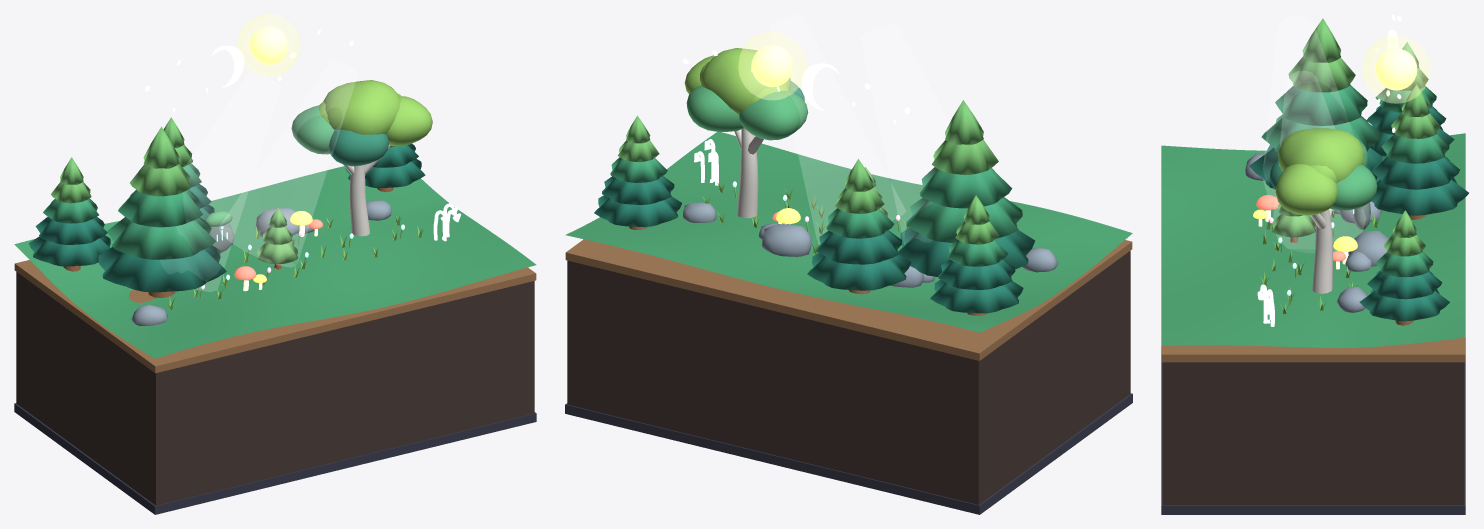
File: wood_wide_web_3d.glb
3 renders of one model, left to right at view 1: azimuth 30°, elevation 25°; view 2: azimuth 150°, elevation 25°; view 3: azimuth 270°, elevation 25°, orthographic. The views are drawn at different scales.
Parts seen in each view (by area): view 1: CutawayEarthShell, MossSurface, DaySunbeam_1, DaySunbeam_0, TopsoilRimBand, BedrockSlab, ElderFir_Tier_0, Birch_Foliage_0, ElderFir_Tier_1, CelestialSunHalo, ElderFir_Tier_2, Birch_Foliage_3 (+16 smaller); view 2: CutawayEarthShell, MossSurface, TopsoilRimBand, DaySunbeam_0, DaySunbeam_1, BedrockSlab, CelestialSunHalo, ElderFir_Tier_1, Birch_Foliage_0, ElderFir_Tier_2, BgPine_1_Tier_0, ElderFir_Tier_0 (+19 smaller); view 3: CutawayEarthShell, MossSurface, TopsoilRimBand, DaySunbeam_0, DaySunbeam_1, BedrockSlab, CelestialSunHalo, Birch_Foliage_0, ElderFir_Tier_2, Birch_Foliage_2, BgPine_1_Tier_0, BgPine_1_Tier_1 (+24 smaller).
Boxes of the visible parts, x1,y1,x2,y2 form: CutawayEarthShell: (16,272,534,505); MossSurface: (14,166,536,358); DaySunbeam_1: (219,60,357,266); DaySunbeam_0: (184,72,280,291); TopsoilRimBand: (14,260,536,373); BedrockSlab: (14,403,536,514); ElderFir_Tier_0: (98,245,226,292); Birch_Foliage_0: (323,80,400,134); ElderFir_Tier_1: (107,217,216,259); CelestialSunHalo: (237,14,300,76); ElderFir_Tier_2: (118,189,203,227); Birch_Foliage_3: (328,129,388,166); CutawayEarthShell: (567,251,1130,504); MossSurface: (565,132,1132,332); TopsoilRimBand: (565,239,1132,360); DaySunbeam_0: (860,23,949,243); DaySunbeam_1: (770,14,905,243); BedrockSlab: (565,393,1132,514); CelestialSunHalo: (738,32,806,99); ElderFir_Tier_1: (906,197,1022,242); Birch_Foliage_0: (701,48,790,114); ElderFir_Tier_2: (919,167,1012,208); BgPine_1_Tier_0: (807,253,911,290); ElderFir_Tier_0: (898,228,1034,276); CutawayEarthShell: (1162,362,1464,505); MossSurface: (1161,133,1465,348); TopsoilRimBand: (1161,337,1465,362); DaySunbeam_0: (1263,16,1344,196); DaySunbeam_1: (1273,71,1365,250); BedrockSlab: (1161,338,1465,514); CelestialSunHalo: (1362,35,1430,103); Birch_Foliage_0: (1278,128,1364,182); ElderFir_Tier_2: (1275,85,1367,125); Birch_Foliage_2: (1275,164,1337,215); BgPine_1_Tier_0: (1371,177,1468,215); BgPine_1_Tier_1: (1371,155,1459,189).
Bounding box in the file's own units: 8.79 × 7.84 × 5.57.
